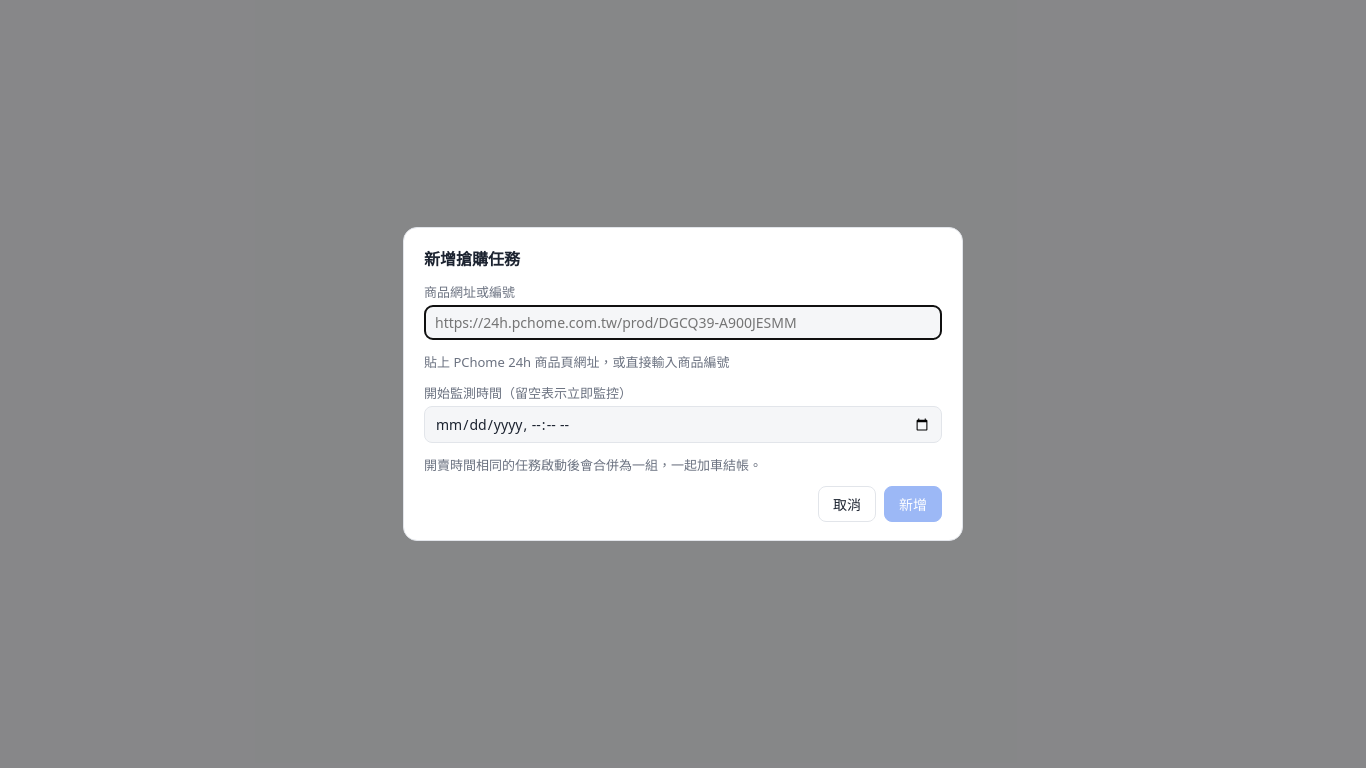
AddProductDialog › shows a debounced preview card with name/price once the id resolves
This screenshot has width=1366, height=768.
Type "DGCQ39-A900JESMM" into the field labelled "商品網址或編號". click: (683, 322)
box: left=424, top=305, right=942, bottom=340
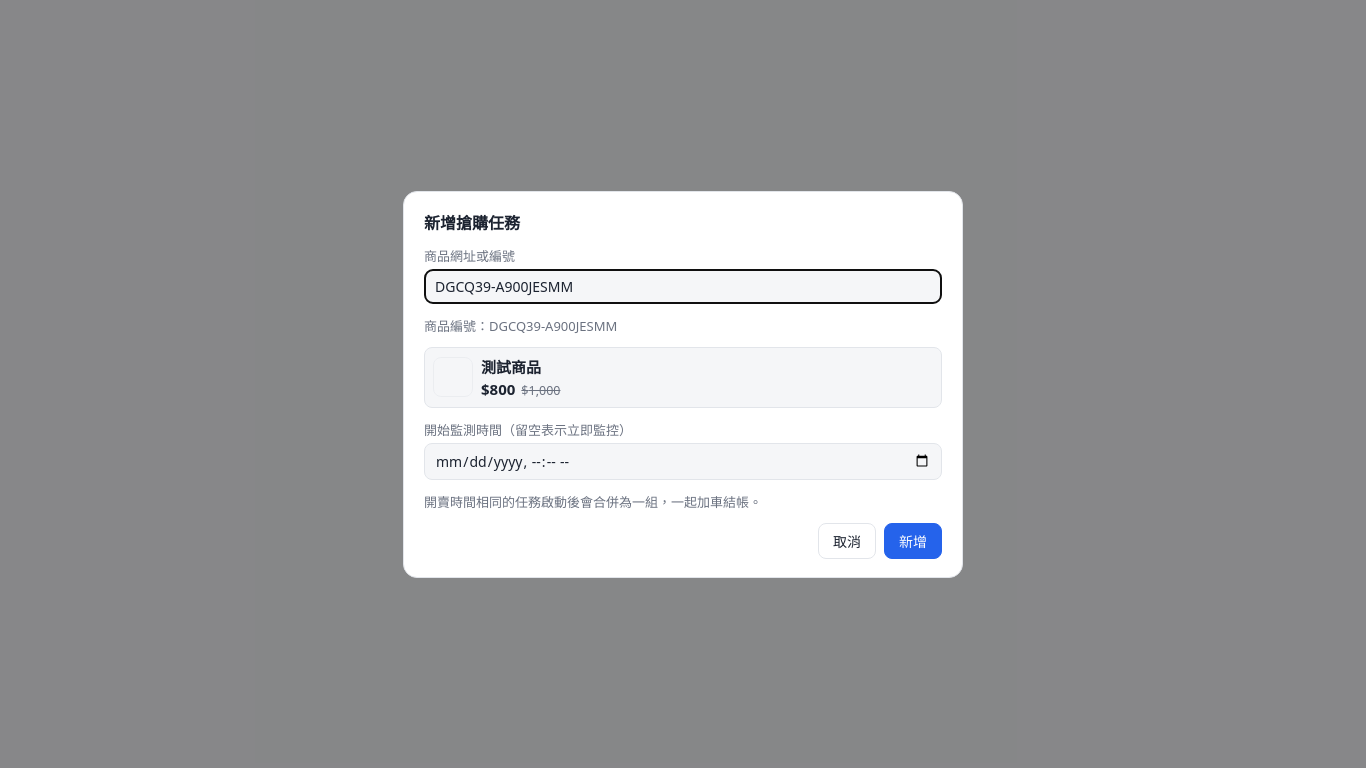
Check: the text "測試商品" is shown, box left=481, top=356, right=541, bottom=376
Check: the text "$800" is shown, box left=481, top=378, right=560, bottom=398
Check: the text "$1,000" is shown, box left=521, top=382, right=560, bottom=398
